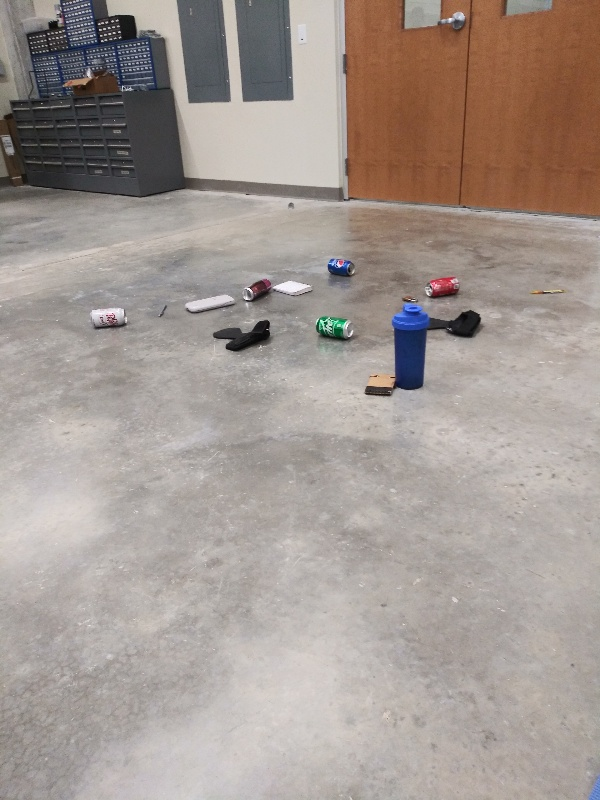can: (420, 275, 466, 300), (312, 313, 356, 339), (88, 303, 130, 330), (324, 255, 358, 280), (240, 278, 274, 302)
